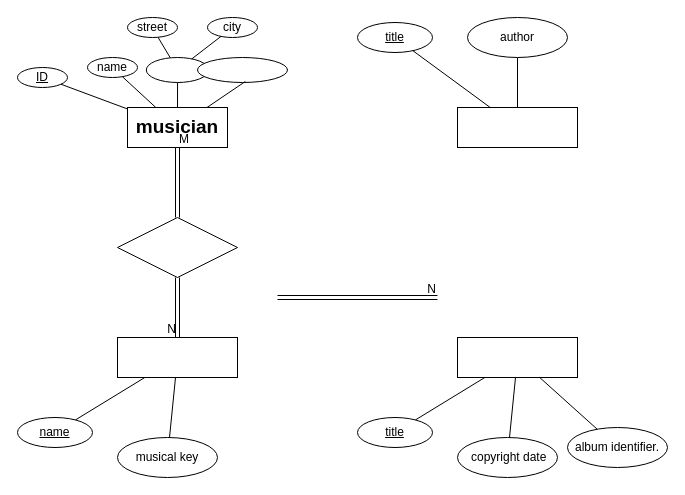
This 685x495 diagram has some shape labels left out. The shapes that lost their labels are listed below. From the top down, each one's centre as x and y in pixels, then its label:
At [177,69]: "address".
At [242,69]: "phone number".
At [517,127]: "song".
At [177,247]: "play".
At [177,357]: "instrument".
At [517,357]: "album".
